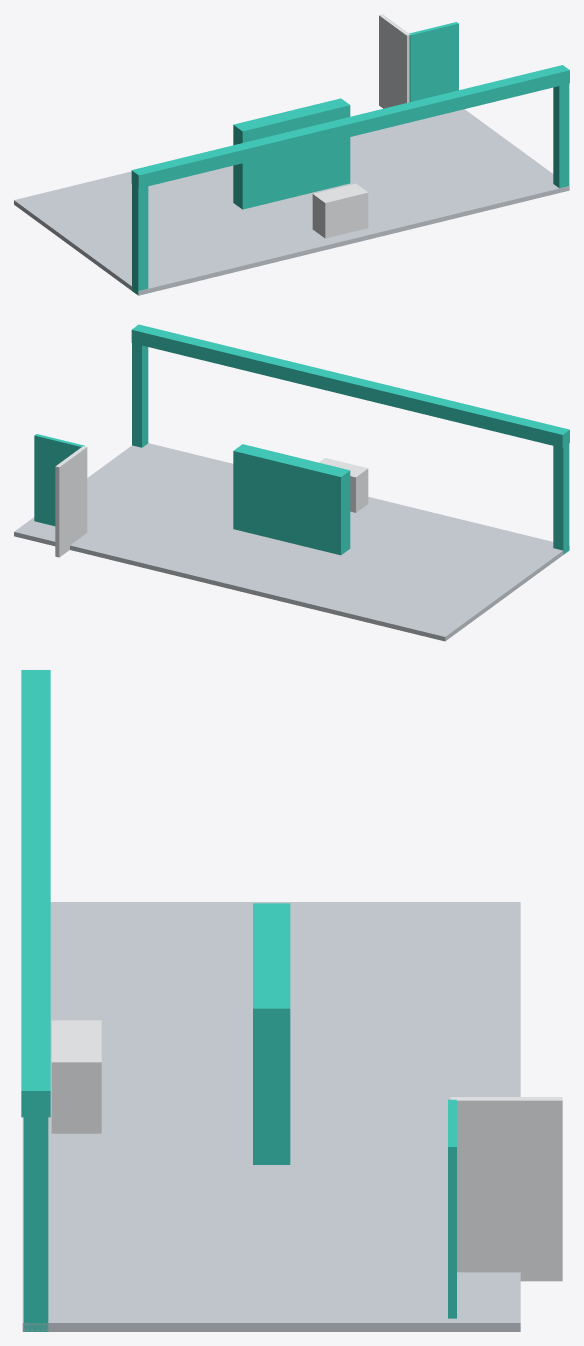
The picture shows the model from 3 angles, top to bottom: view 1: azimuth 30°, elevation 25°; view 2: azimuth 150°, elevation 25°; view 3: azimuth 270°, elevation 25°; orthographic projection. The views are drawn at different scales.
Parts seen in each view (by area): view 1: Exhibition Booth Concept; view 2: Exhibition Booth Concept; view 3: Exhibition Booth Concept.
Part boxes in pixels (box(x1,y1,x2,y2)): Exhibition Booth Concept: box(14, 14, 569, 295); Exhibition Booth Concept: box(14, 324, 569, 641); Exhibition Booth Concept: box(21, 670, 562, 1331).
Size of the model in its own units: 12 by 3.2 by 6.52.
